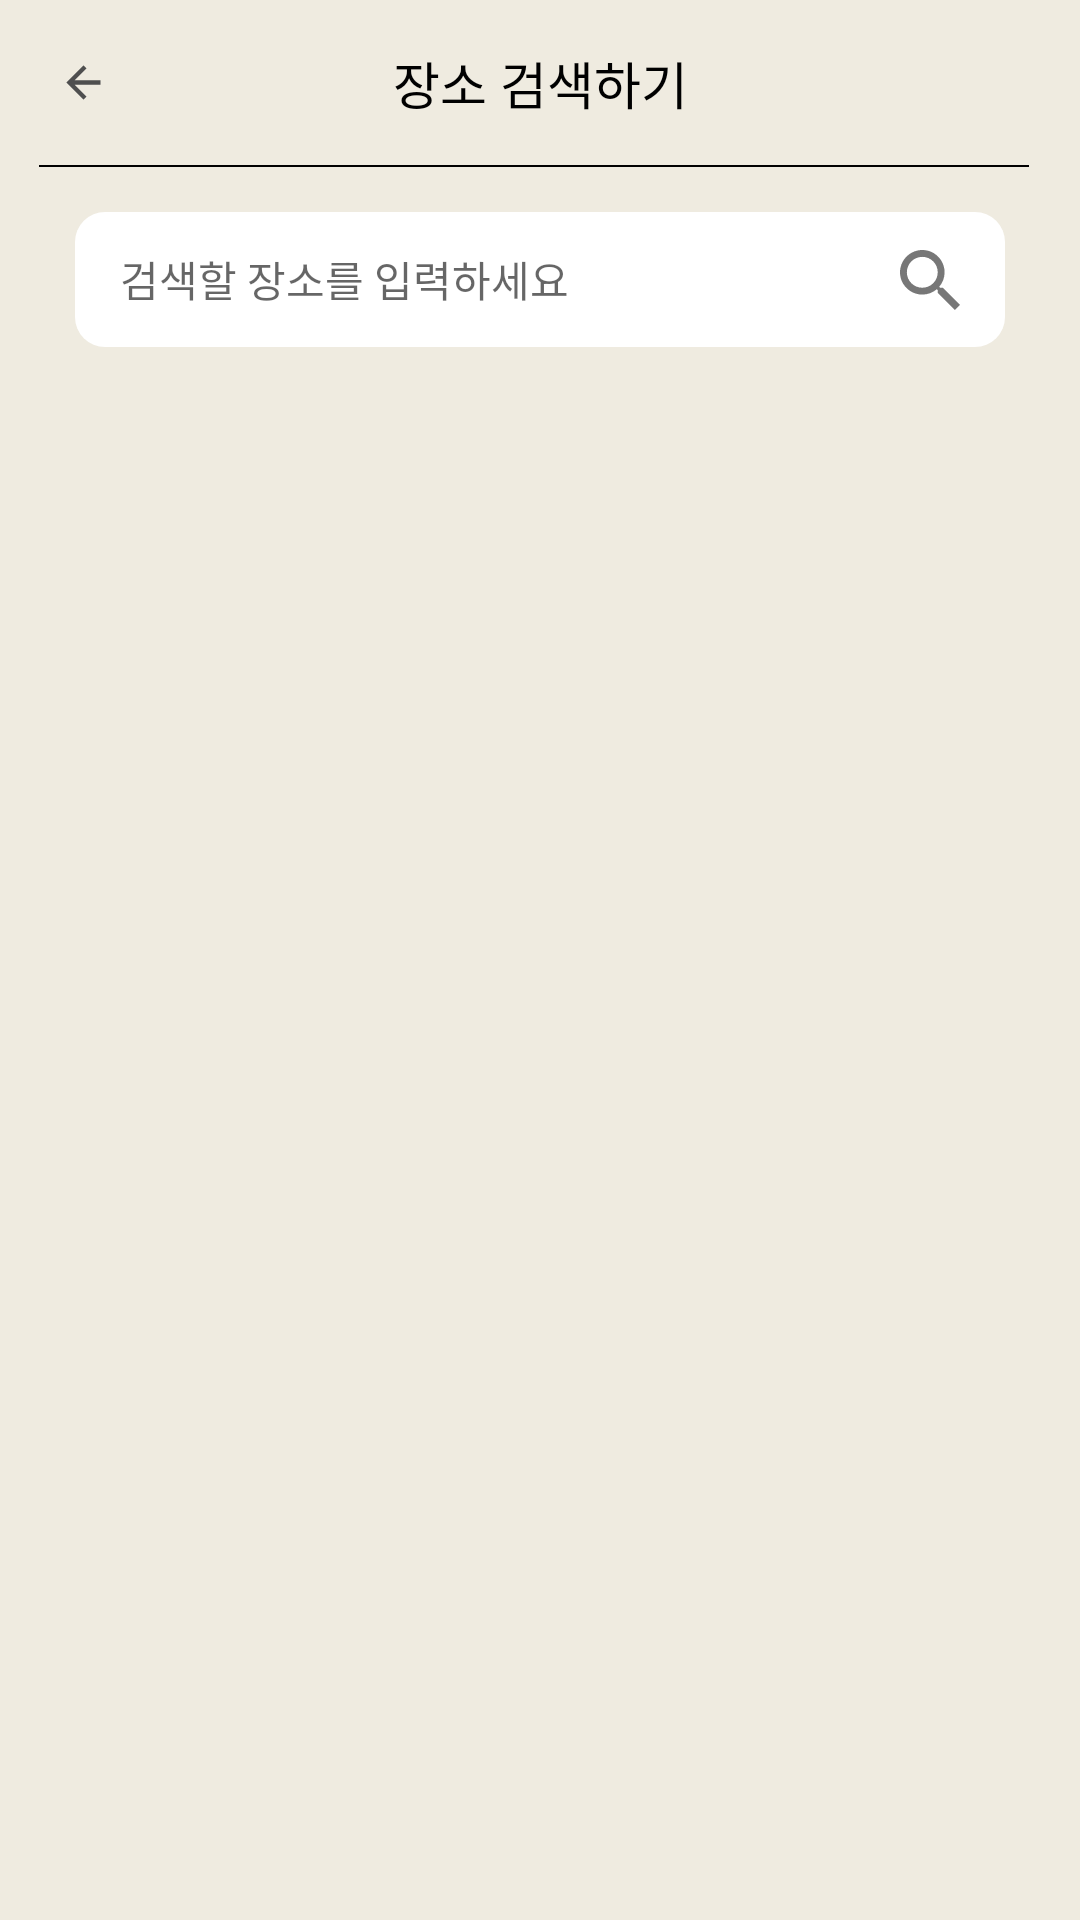

Locate icon controls on the screen. Image size 1080*1920, boxes as (x1, y1, x2, y2).
arrow back: (66, 65, 101, 100)
